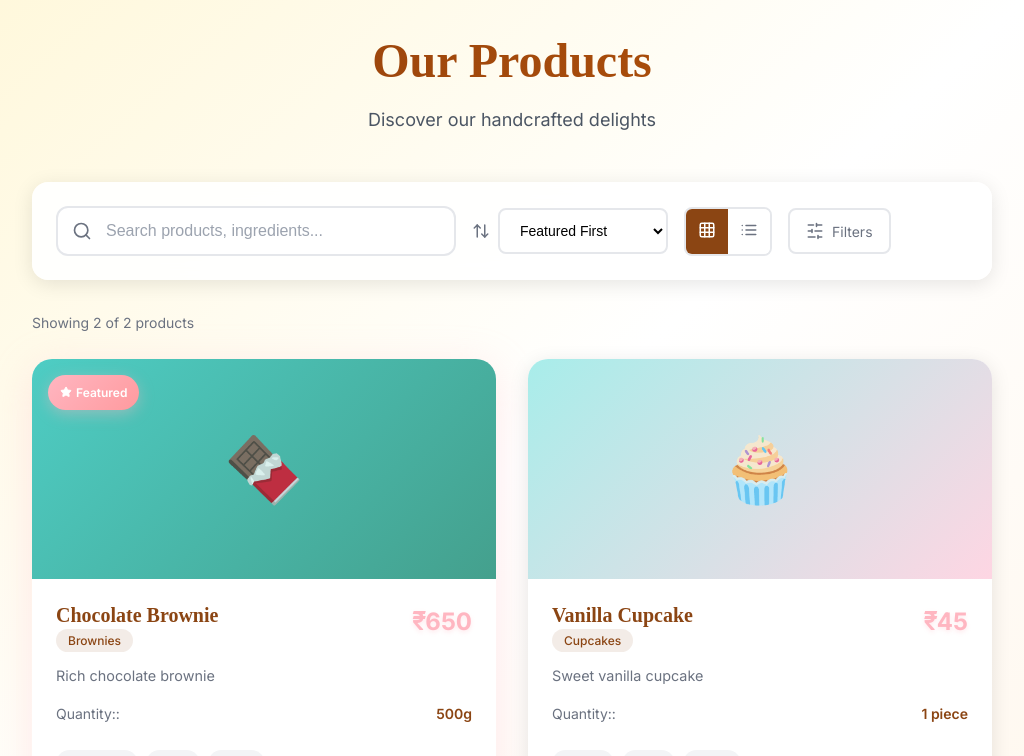
Test: Products Component › filters products by search term
expect the heading "Chocolate Brownie" is shown: met, box [56,603,218,627]
expect the heading "Vanilla Cupcake" is shown: met, box [552,603,693,627]
Type "chocolate" into the field with placeholder "Search products, ingredients..." at coordinates (256, 231), box [56,206,456,256]
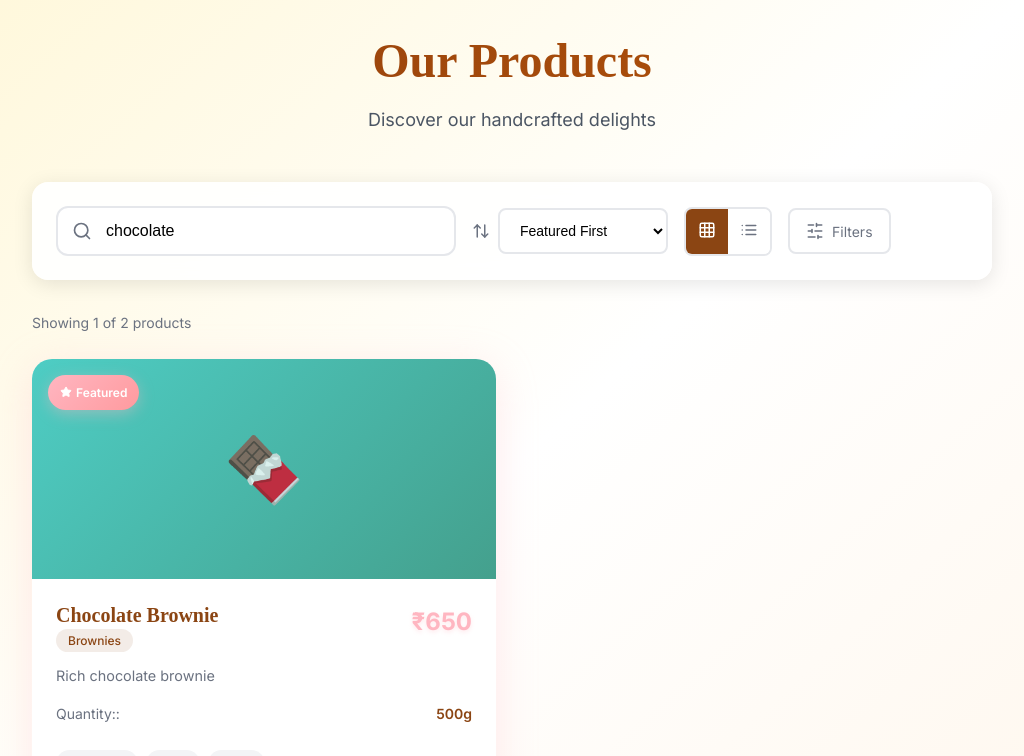
expect the heading "Chocolate Brownie" is shown: met, box [56,603,218,627]
expect the heading "Vanilla Cupcake" is gone: met
